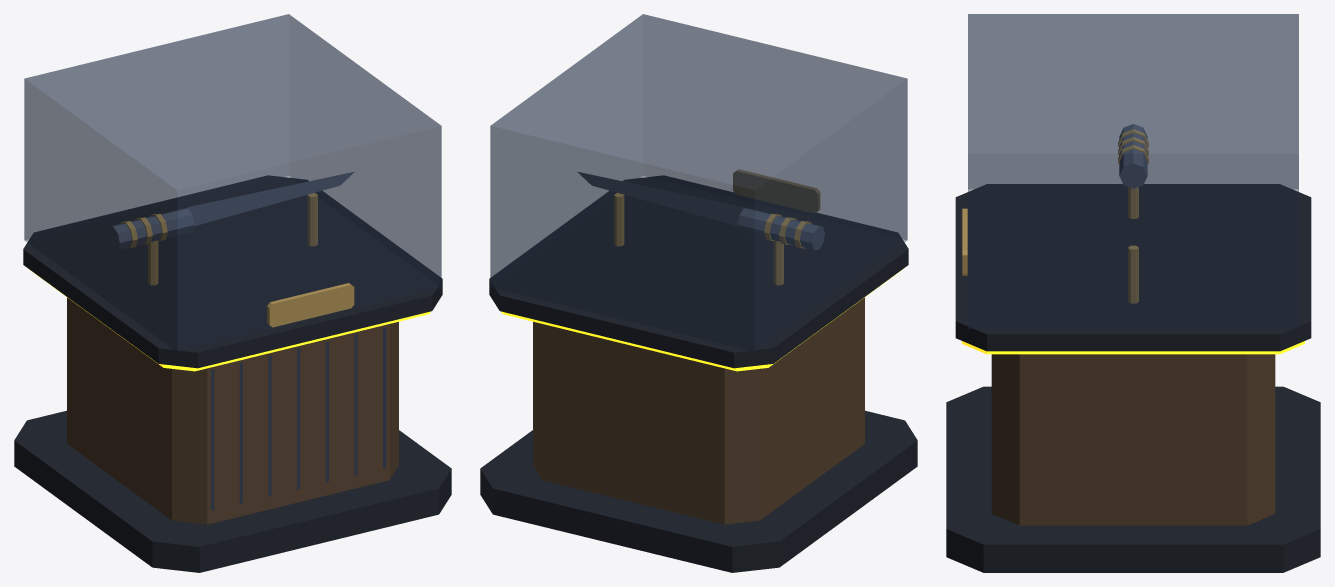
Rendered from res_blade_display_pedestal.glb.
3 views of the same model, side by side, from view 1: azimuth 30°, elevation 25°; view 2: azimuth 150°, elevation 25°; view 3: azimuth 270°, elevation 25° (orthographic). The views are drawn at different scales.
Parts seen in each view (by area): view 1: display_glazing, display_deck, fluted_plinth, plinth_fluting, cradle, ceremonial_blade, plasmaBlade_hilt, display_reveal; view 2: display_glazing, display_deck, fluted_plinth, cradle, ceremonial_blade, plasmaBlade_hilt, display_reveal; view 3: display_glazing, display_deck, fluted_plinth, cradle, display_reveal, plasmaBlade_hilt.
Boxes of the visible parts, box(x1,y1,x2,y2) form: display_glazing: box(24, 14, 441, 351); display_deck: box(14, 175, 451, 572); fluted_plinth: box(67, 297, 398, 524); plinth_fluting: box(211, 327, 386, 510); cradle: box(120, 193, 354, 327); ceremonial_blade: box(188, 171, 354, 225); plasmaBlade_hilt: box(107, 208, 194, 249); display_reveal: box(28, 268, 430, 371); display_glazing: box(490, 14, 907, 351); display_deck: box(480, 175, 917, 572); fluted_plinth: box(533, 297, 864, 524); cradle: box(614, 169, 819, 285); ceremonial_blade: box(577, 171, 743, 225); plasmaBlade_hilt: box(737, 208, 824, 249); display_reveal: box(501, 268, 903, 371); display_glazing: box(968, 14, 1298, 328); display_deck: box(946, 184, 1320, 572); fluted_plinth: box(991, 354, 1275, 525); cradle: box(962, 129, 1148, 303); display_reveal: box(962, 341, 1304, 354); plasmaBlade_hilt: box(1119, 124, 1147, 188).
Size of the model in its own units: 1.2 by 1.45 by 1.2.
